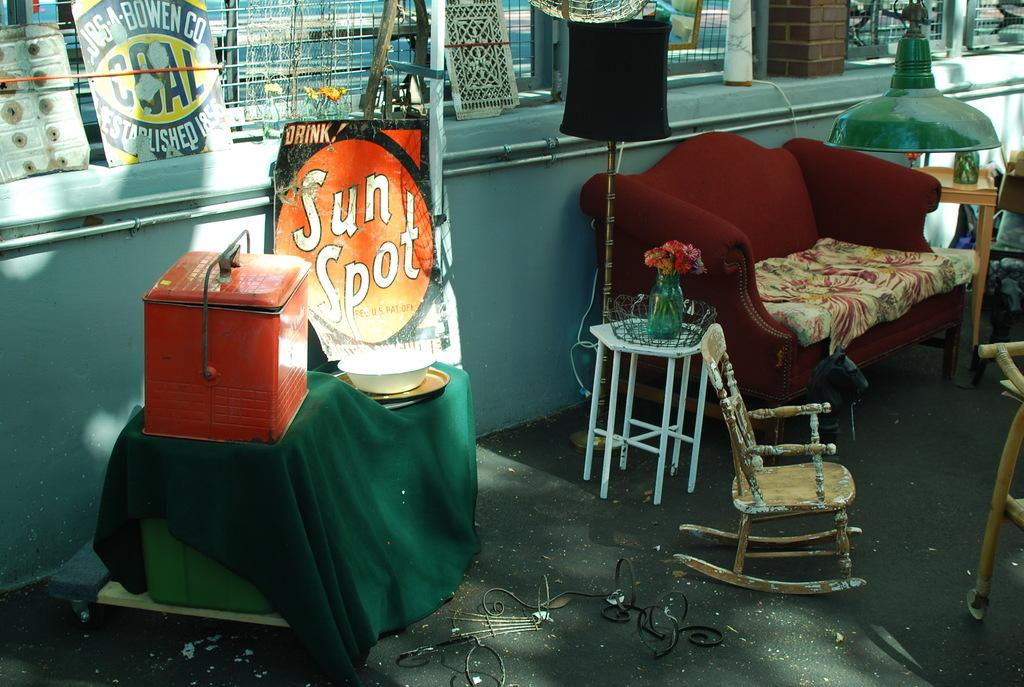Chair: (670, 320, 872, 591)
